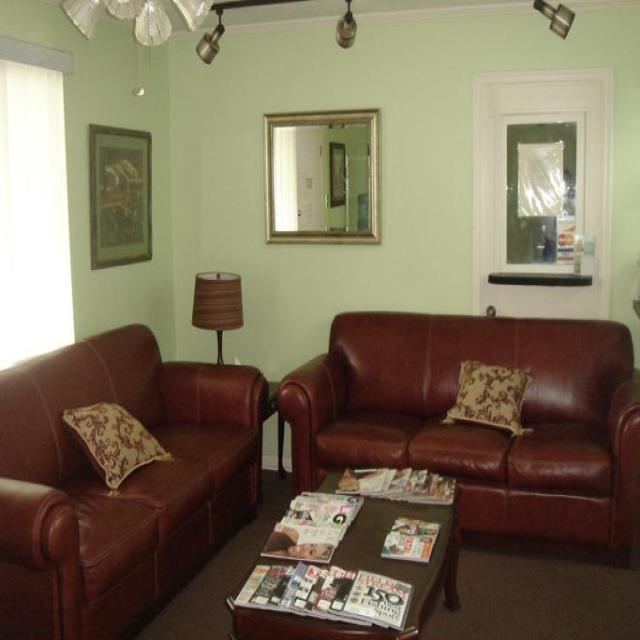curtains: (0, 54, 75, 368)
lamps: (532, 0, 574, 40)
pillows: (60, 400, 173, 495), (440, 358, 533, 438)
rugs: (132, 466, 638, 639)
sofa: (277, 308, 639, 568), (0, 321, 268, 639)
table: (224, 465, 462, 639)
table-lamp: (190, 268, 244, 364)
windows: (471, 68, 614, 320), (264, 108, 381, 244)
